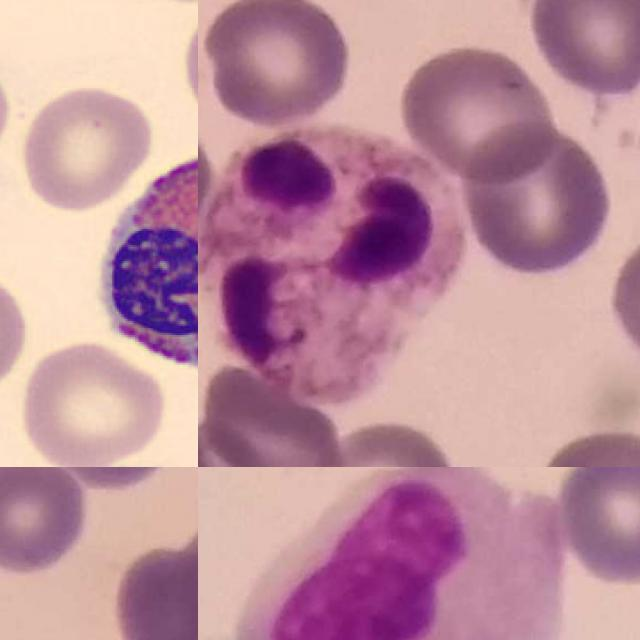Eosinophil: (81, 128, 198, 398)
Monocyte: (245, 467, 562, 640)
Neutrophil: (204, 125, 467, 406)
RBC: (15, 336, 170, 467), (16, 81, 158, 213), (0, 262, 32, 400)
